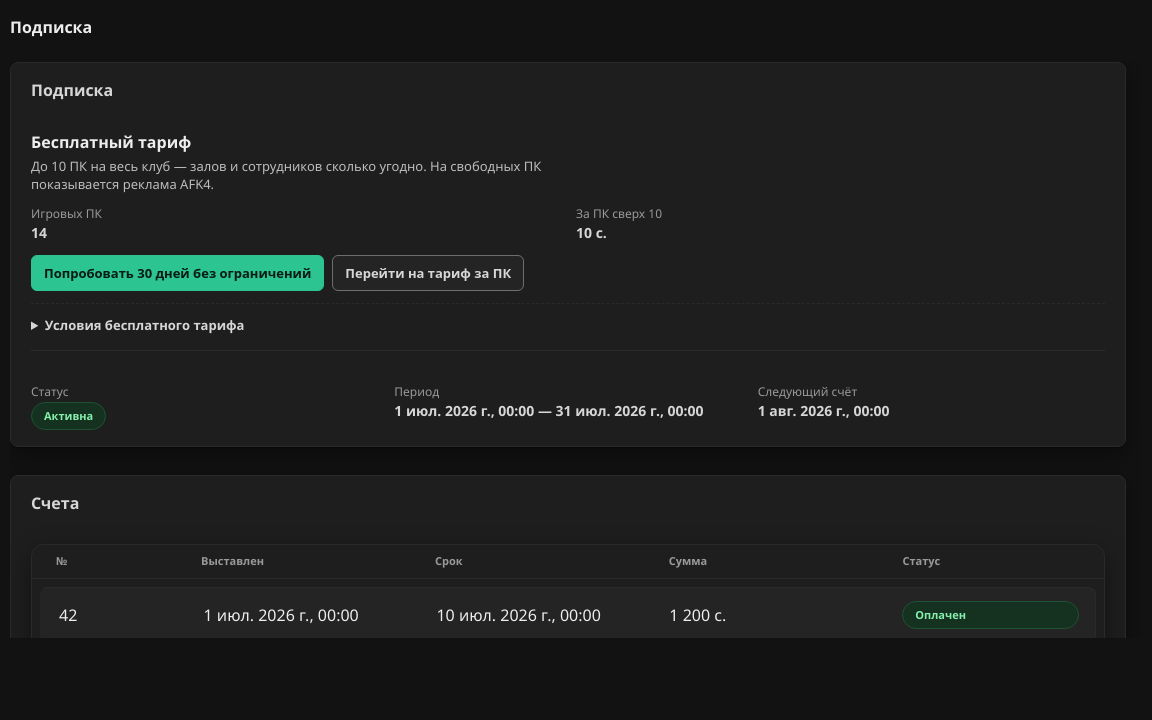
it: тариф клуба › владелец бесплатного клуба сам начинает пробный период
This screenshot has width=1152, height=720.
Click the button "Попробовать 30 дней без ограничений" at [178, 273], box [31,255,324,291]
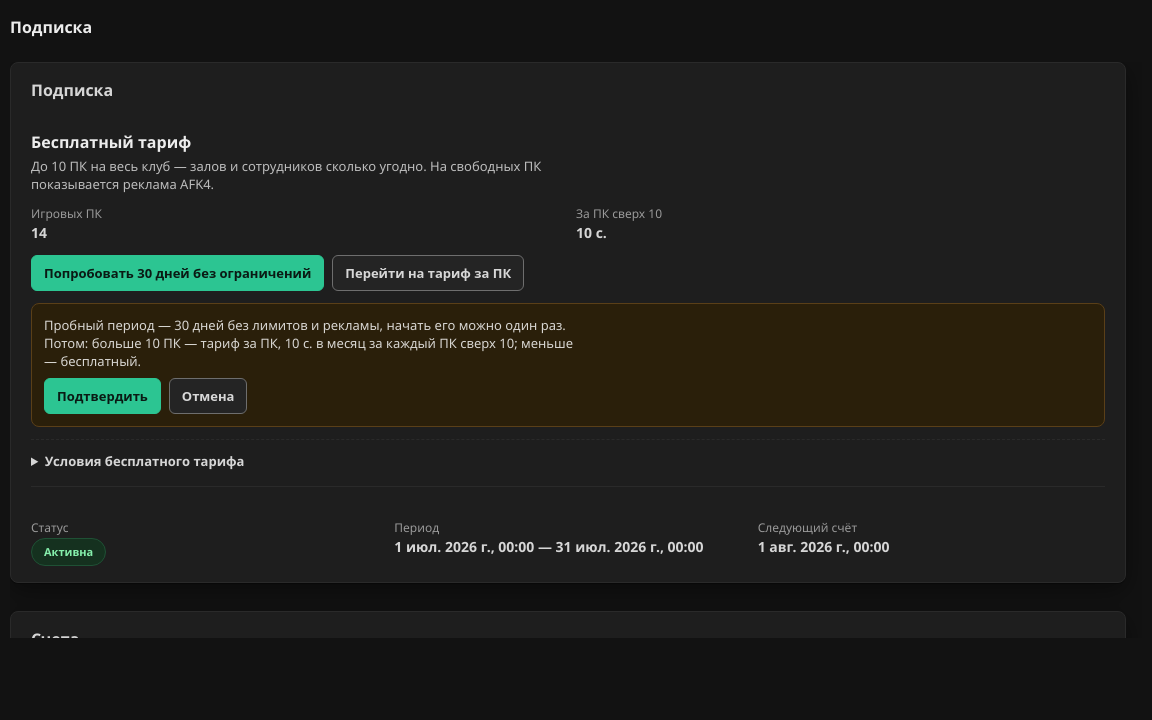
Now the text "начать его можно один раз" is shown, box [44,316,573,370]
Click the button "Подтвердить" at [102, 396], box [44,378,161,414]
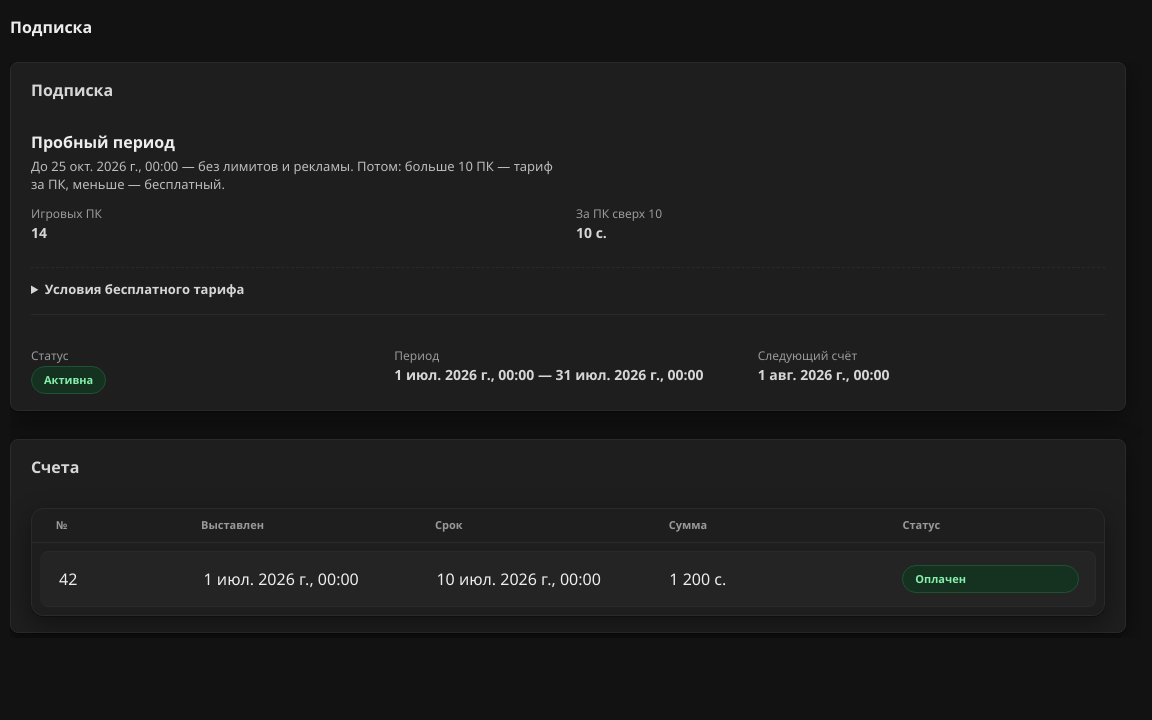
Now the text "Пробный период" is shown, box [31,131,175,153]
